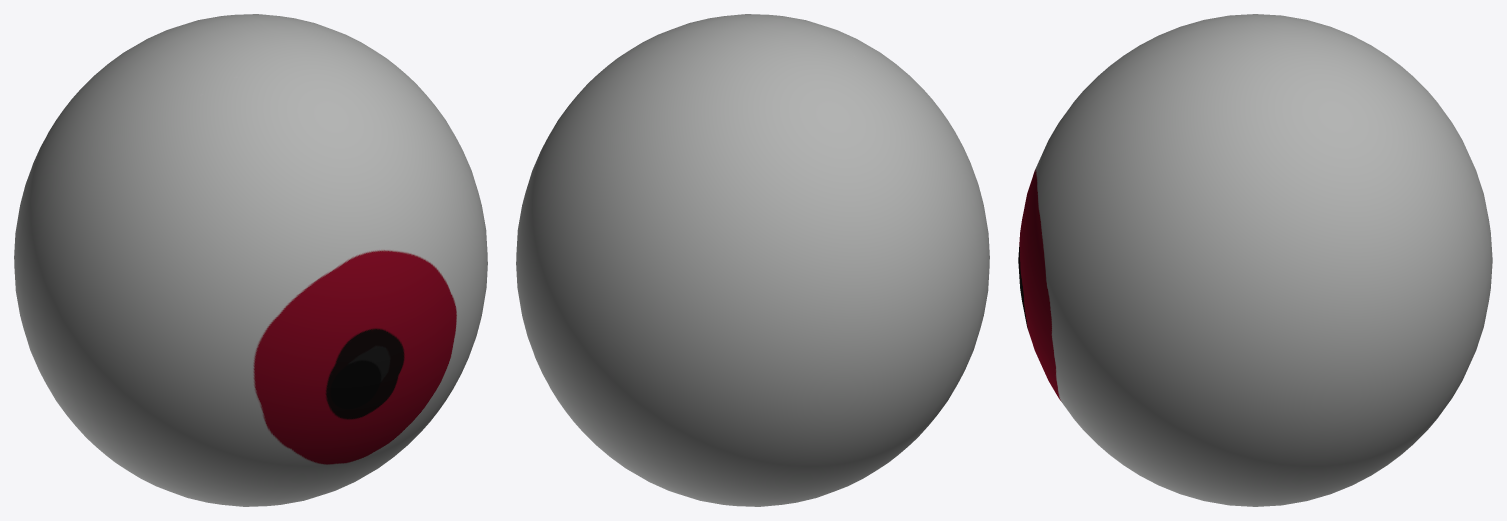
File: EYE.fbx
3 views of the same model, side by side, from view 1: azimuth 30°, elevation 25°; view 2: azimuth 150°, elevation 25°; view 3: azimuth 270°, elevation 25° (orthographic).
Parts seen in each view (by area): view 1: root; view 2: root; view 3: root.
Part boxes in pixels (x1,y1,x2,y2): root: (14, 14, 487, 506); root: (516, 14, 989, 506); root: (1018, 14, 1492, 506).
Bounding box in the file's own units: 0.5137 × 0.5387 × 0.5137.
1 material, 1 textured.
